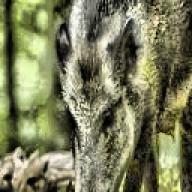boar: (52, 0, 192, 192)
